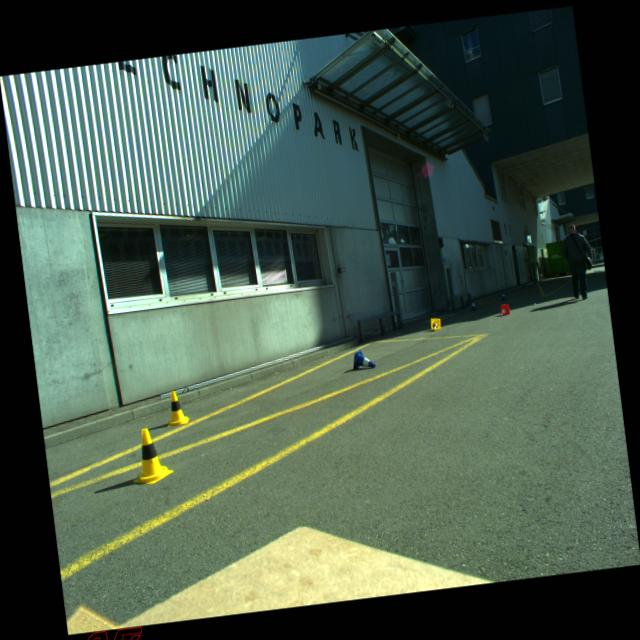blue_cone: (350, 347, 376, 370), (469, 300, 477, 310), (499, 290, 506, 300)
orange_cone: (499, 303, 510, 316)
yellow_cone: (126, 425, 176, 486), (162, 389, 190, 426), (429, 316, 442, 332)
